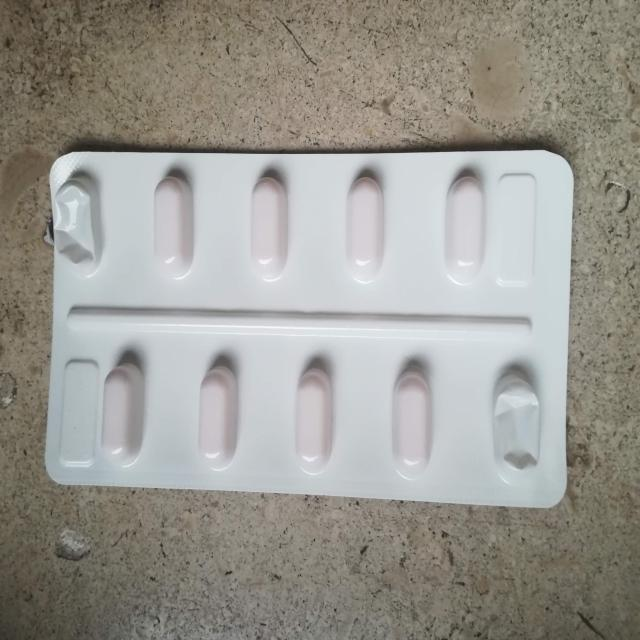Empty: (485, 358, 548, 485), (51, 173, 106, 280)
Pill: (186, 356, 251, 478), (139, 167, 204, 285), (382, 354, 436, 483), (288, 354, 342, 480), (238, 169, 294, 285), (438, 166, 491, 282), (340, 165, 390, 284), (94, 352, 144, 464)
